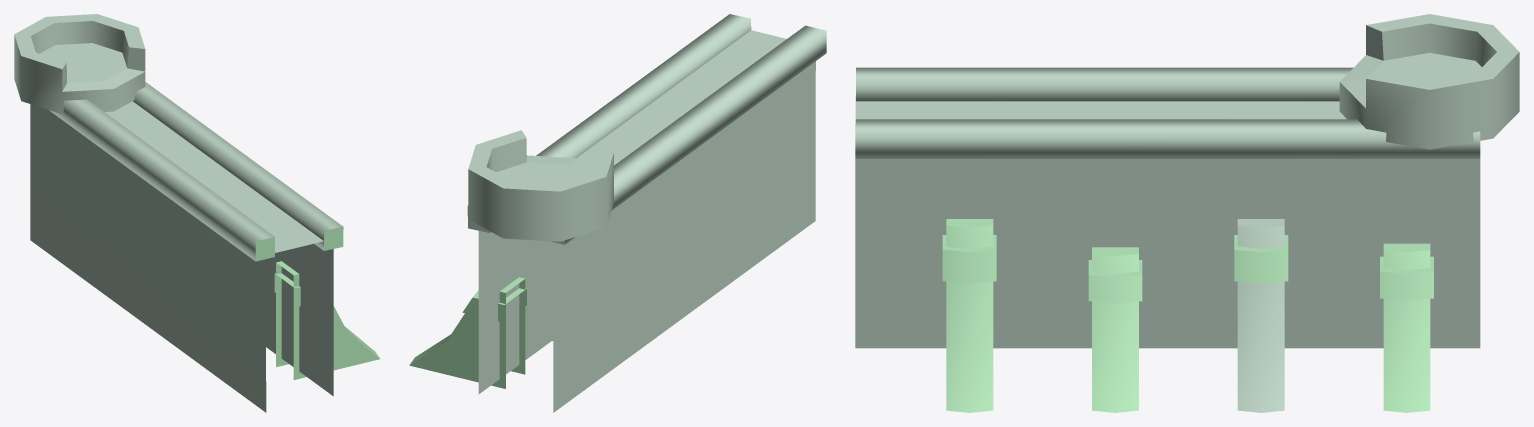
3 renders of one model, left to right at view 1: azimuth 30°, elevation 25°; view 2: azimuth 150°, elevation 25°; view 3: azimuth 270°, elevation 25°, orthographic. The views are drawn at different scales.
Visible parts, largest first — view 1: Object62; view 2: Object62; view 3: Object62.
Boxes of the visible parts, <box> form: Object62: <box>14,14,380,412</box>; Object62: <box>409,14,826,412</box>; Object62: <box>855,14,1519,412</box>.
Size of the model in its own units: 341 by 383 by 818.
